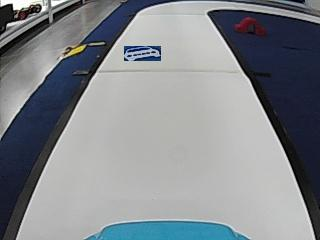bridge: (235, 16, 265, 35)
